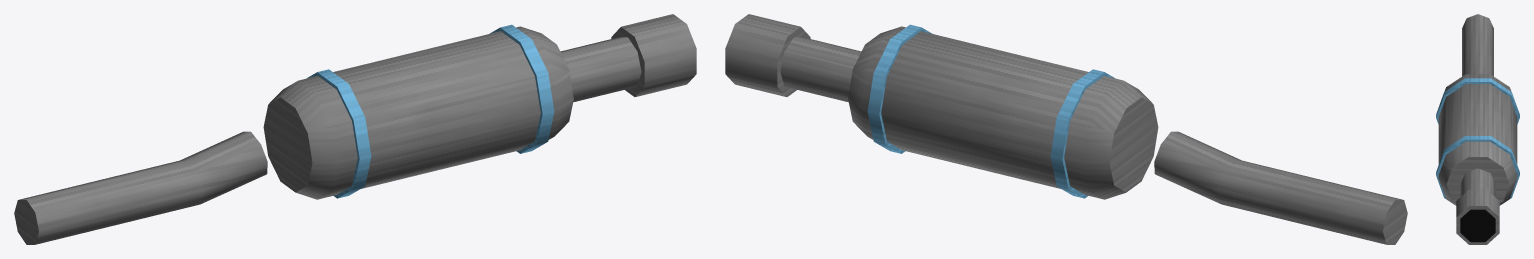
File: escape_n1.glb
3 renders of one model, left to right at view 1: azimuth 30°, elevation 25°; view 2: azimuth 150°, elevation 25°; view 3: azimuth 270°, elevation 25°, orthographic. The views are drawn at different scales.
Visible parts, largest first — view 1: escape_n1; view 2: escape_n1; view 3: escape_n1.
Part boxes in pixels (x1,y1,x2,y2): escape_n1: (14,14,696,244); escape_n1: (725,14,1407,244); escape_n1: (1436,14,1519,244).
Bounding box in the file's own units: 1 × 0.1636 × 0.172.
Materials: 1 (1 with a texture image).
